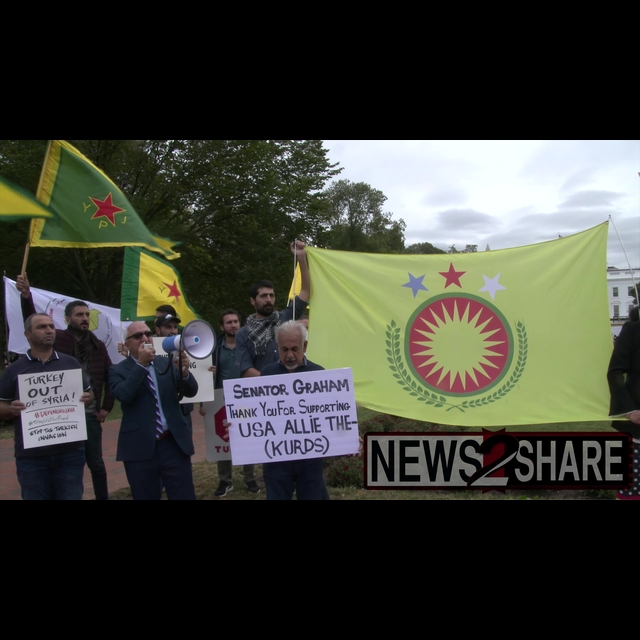YPJ: (79, 190, 130, 231)
